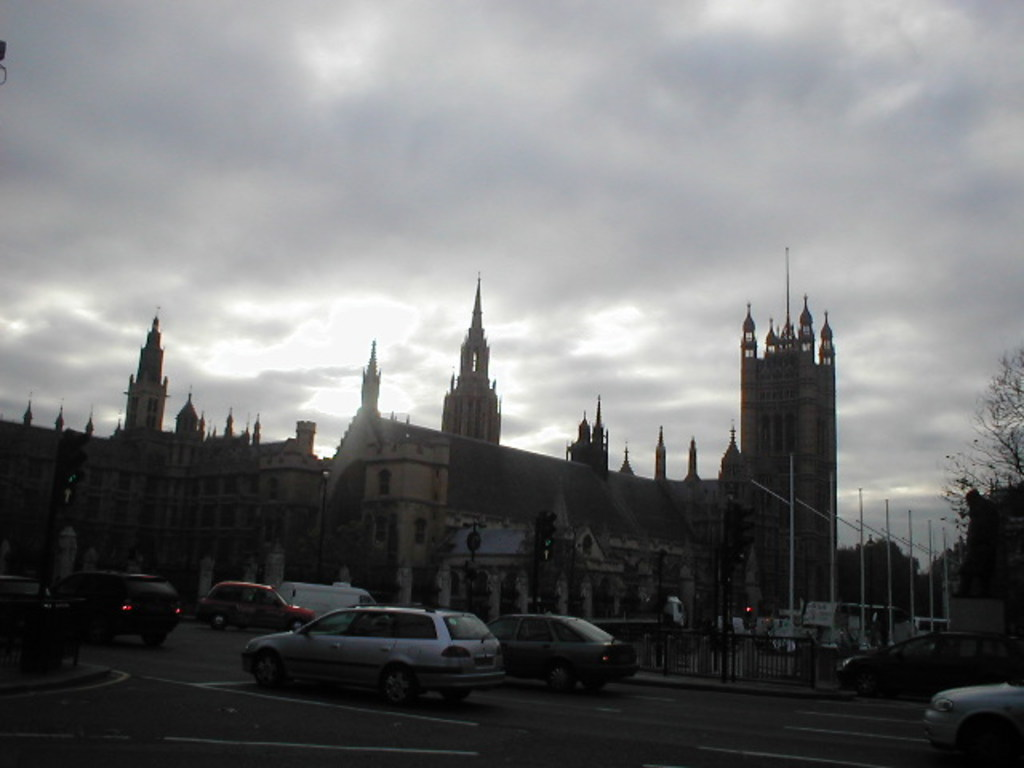Car: (231, 600, 502, 704), (486, 615, 638, 694), (839, 635, 1017, 700), (44, 566, 180, 646), (928, 683, 1022, 766), (203, 576, 313, 633)
